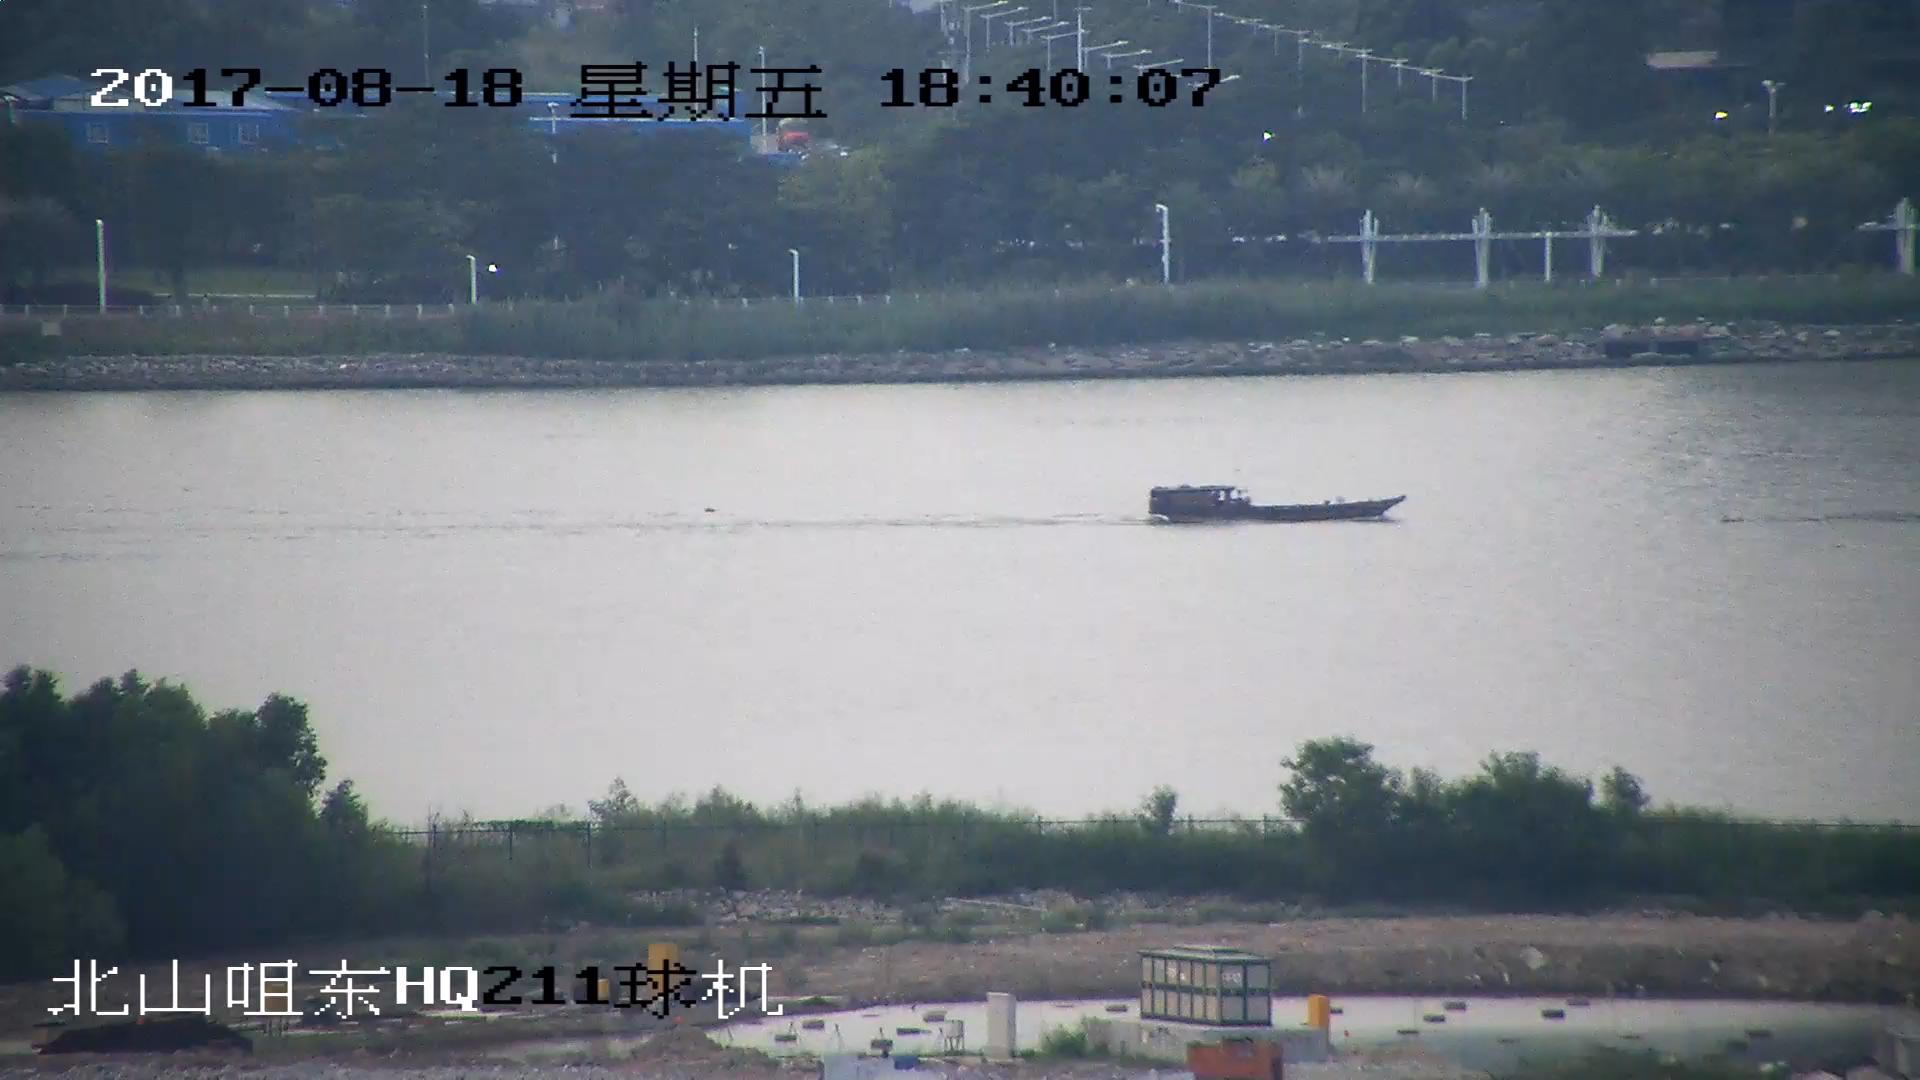fishing boat: (1145, 479, 1406, 528)
